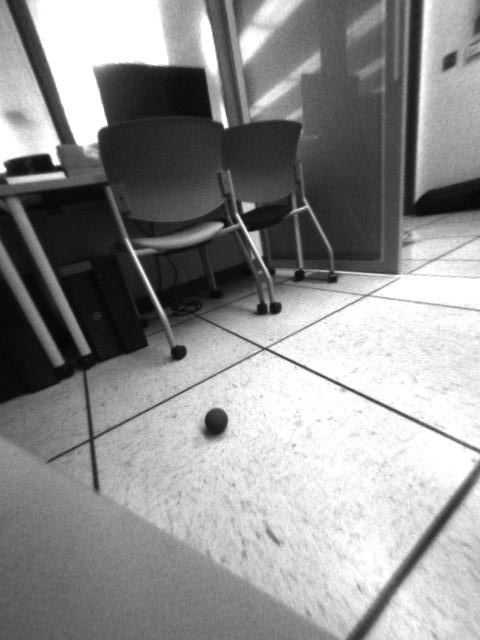dogtoy: (192, 401, 235, 443)
